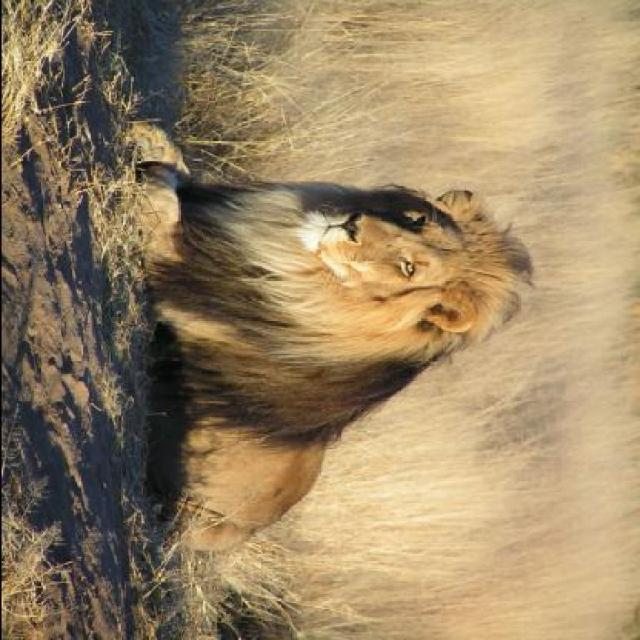Lion: (106, 91, 543, 586)
